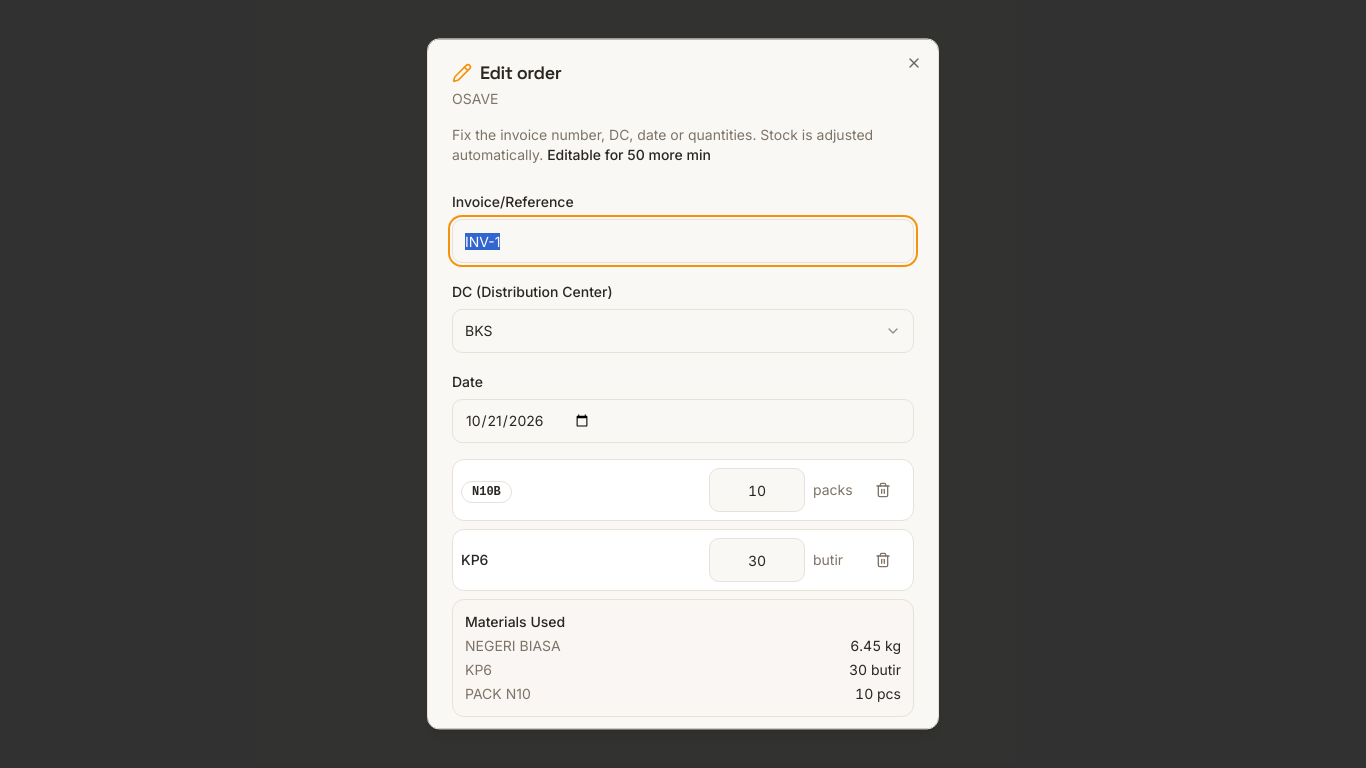
Test: EditOrderDialog — Purchase Order › blocks a fractional pack quantity
Replace the text in the field named "Quantity N10B" with "2.5" at {"x": 757, "y": 490}, box 709,468 -> 805,512
(page scrolled)
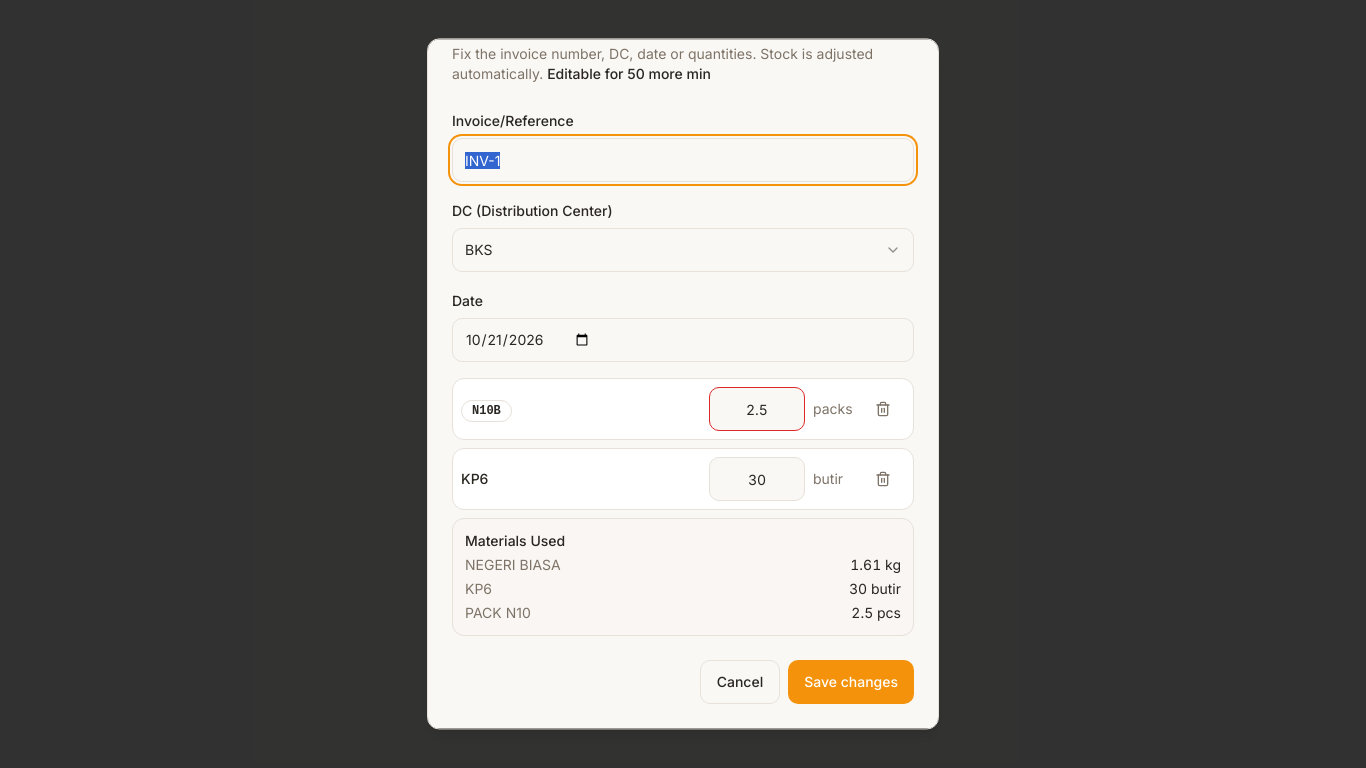
Click the button "Save changes" at {"x": 851, "y": 682}, box 788,660 -> 914,704
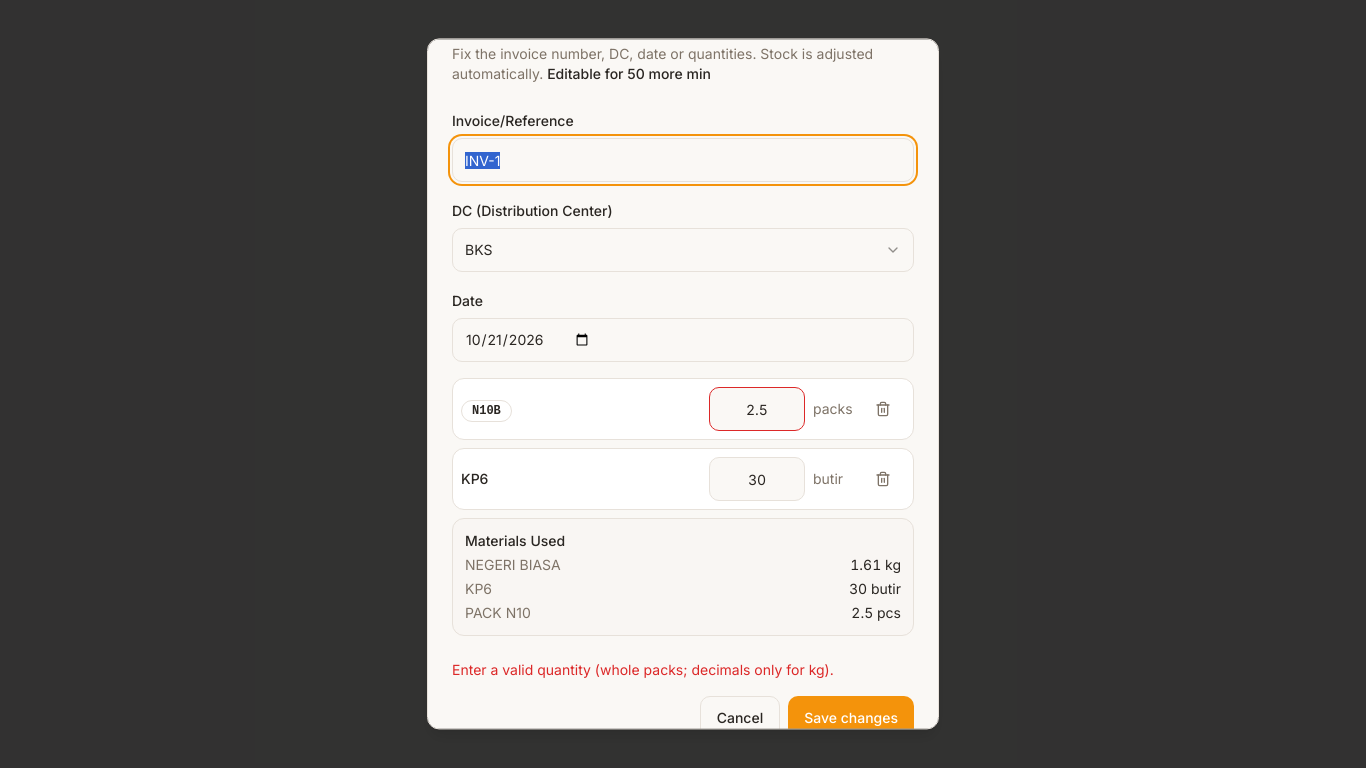
Check: the message "Enter a valid quantity (whole packs; decimals only for kg)." is shown, box 452,661 -> 834,678
